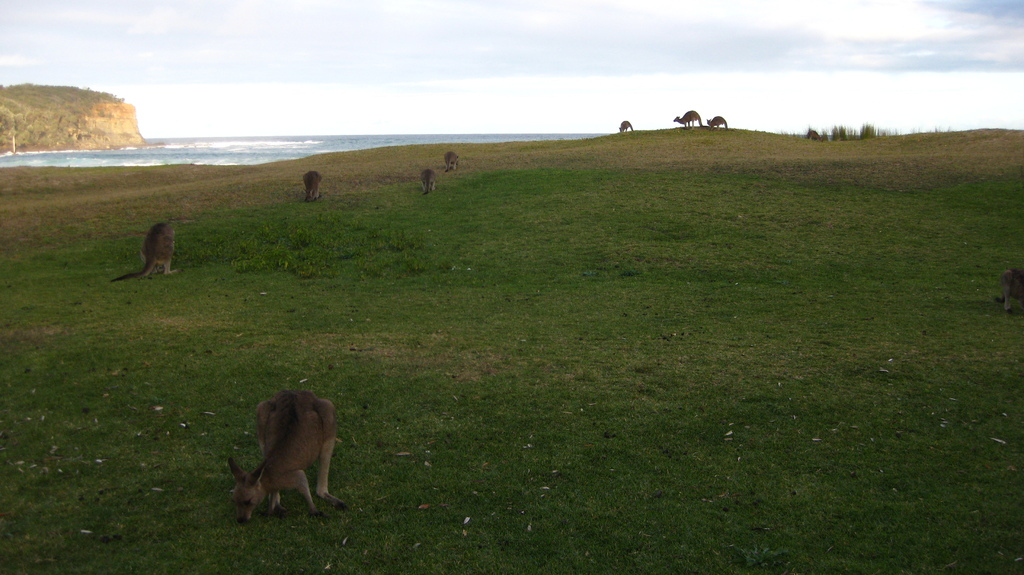kangaroo: (216, 391, 353, 526), (108, 223, 181, 281), (440, 152, 463, 178), (300, 172, 320, 199), (675, 108, 700, 129), (420, 170, 437, 197), (703, 115, 727, 128), (619, 117, 632, 131)
